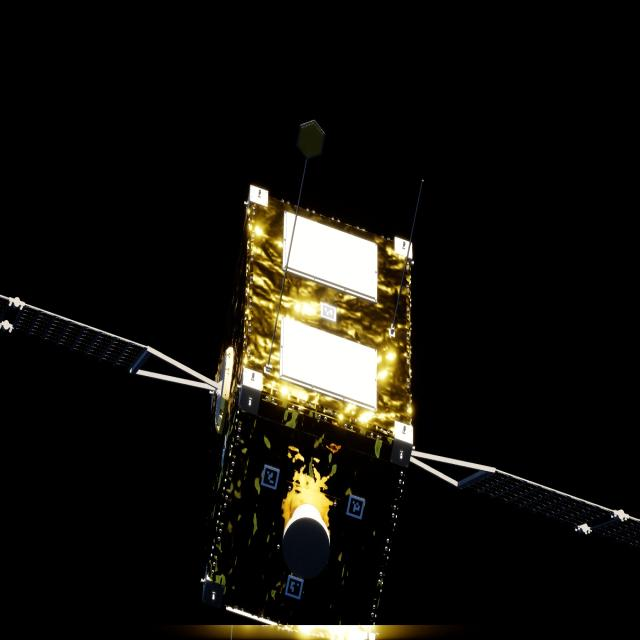medium_debris: (0, 187, 640, 627)
